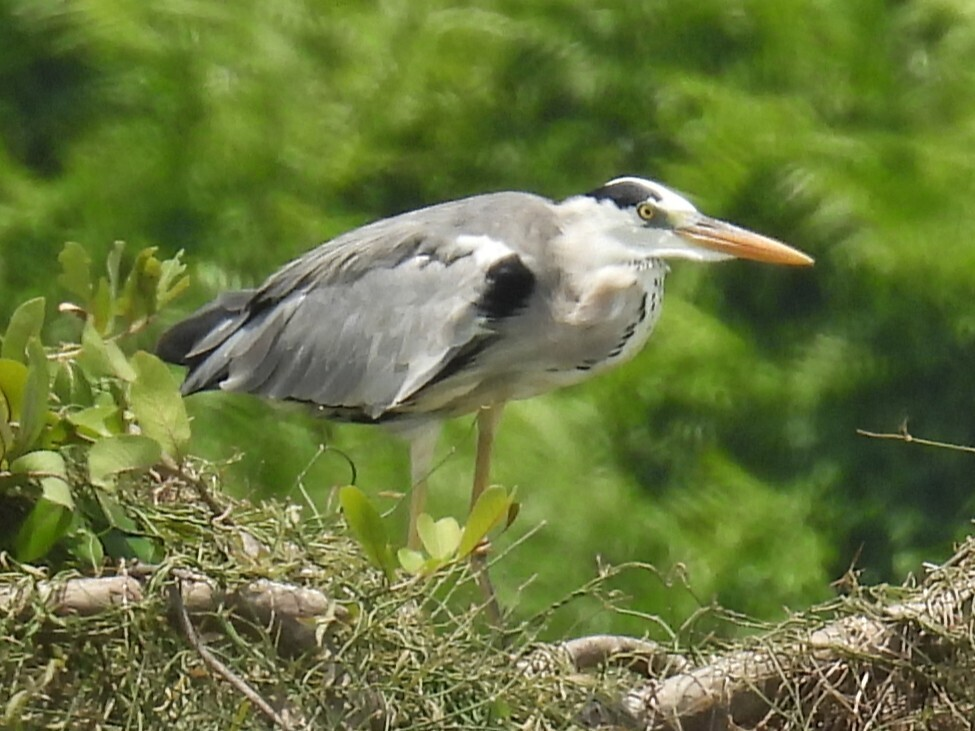heron: (156, 175, 814, 663)
